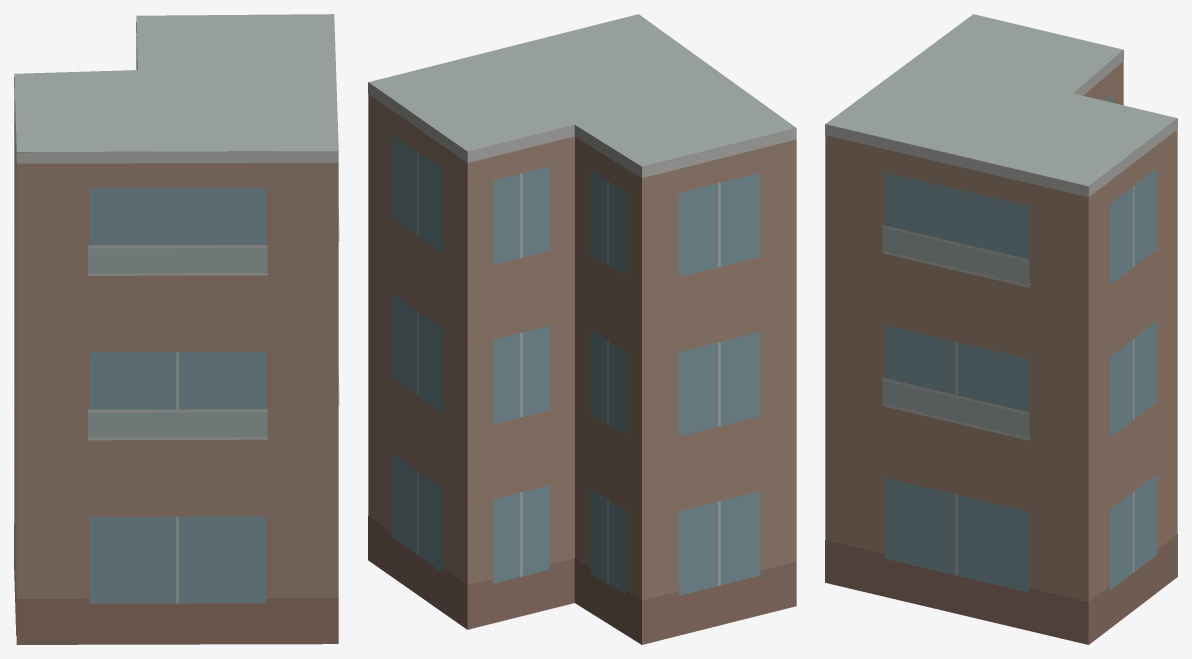
File: survey-upis-32898222.glb
3 renders of one model, left to right at view 1: azimuth 30°, elevation 25°; view 2: azimuth 150°, elevation 25°; view 3: azimuth 270°, elevation 25°, orthographic. The views are drawn at different scales.
Parts seen in each view (by area): view 1: survey-upis-32898222.tmp; view 2: survey-upis-32898222.tmp; view 3: survey-upis-32898222.tmp.
Boxes of the visible parts, x1,y1,x2,y2 form: survey-upis-32898222.tmp: (14,14,339,644); survey-upis-32898222.tmp: (368,14,796,644); survey-upis-32898222.tmp: (825,14,1177,644).
Bounding box in the file's own units: 8.23 × 10.2 × 7.12.
